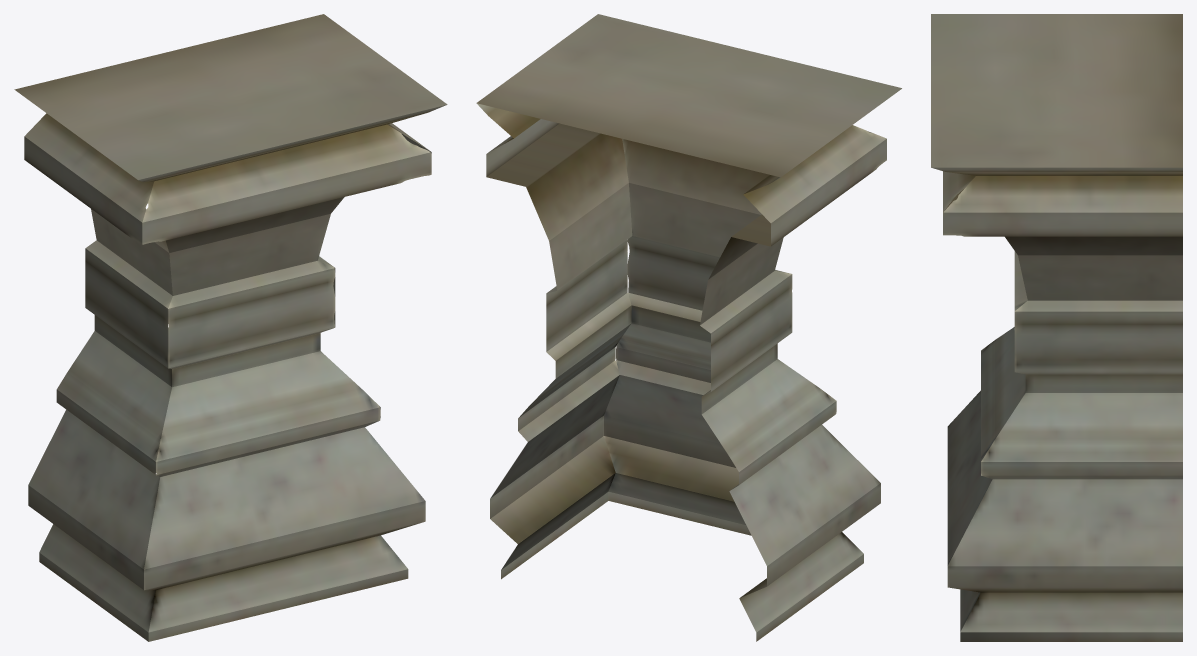
File: roman_podium.FBX
3 renders of one model, left to right at view 1: azimuth 30°, elevation 25°; view 2: azimuth 150°, elevation 25°; view 3: azimuth 270°, elevation 25°, orthographic. The views are drawn at different scales.
Visible parts, largest first — view 1: roman_podium; view 2: roman_podium; view 3: roman_podium.
Part boxes in pixels (x1,y1,x2,y2): roman_podium: (14, 14, 447, 641); roman_podium: (476, 14, 901, 641); roman_podium: (931, 14, 1182, 641).
Size of the model in its own units: 42.06 by 62.09 by 29.13.
